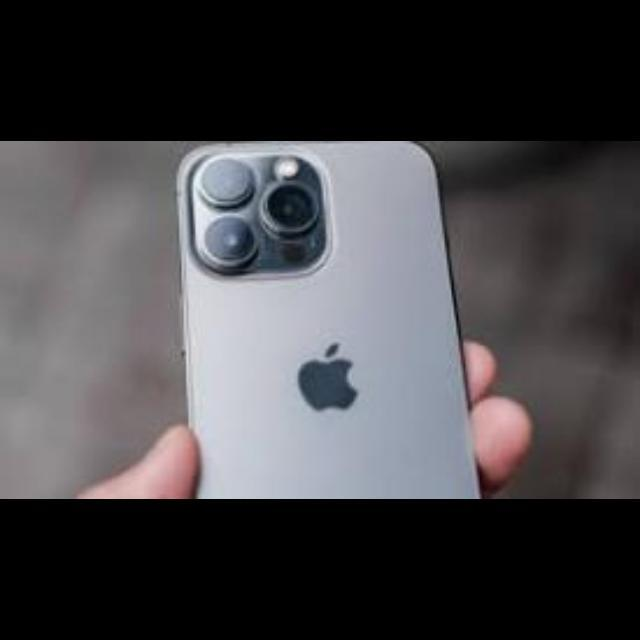Phone: (179, 143, 479, 499)
